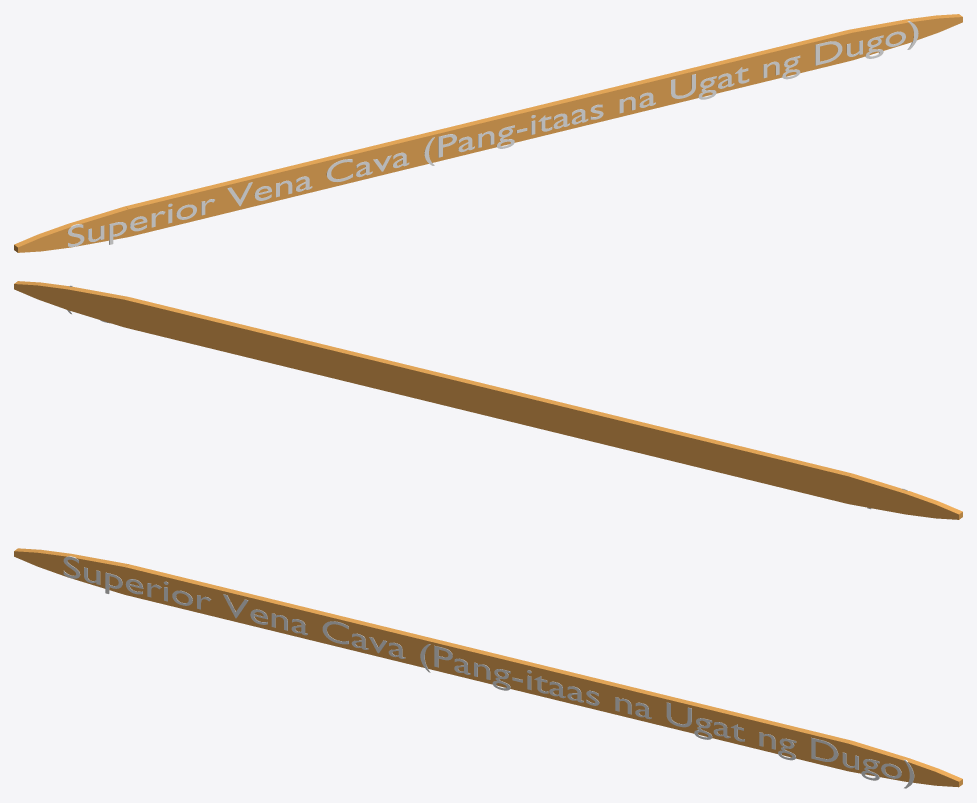
File: txtSuperiorVenaCava.fbx
The picture shows the model from 3 angles, top to bottom: view 1: azimuth 30°, elevation 25°; view 2: azimuth 150°, elevation 25°; view 3: azimuth 330°, elevation 25°; orthographic projection.
Parts seen in each view (by area): view 1: TagContainer.023, Text.023; view 2: TagContainer.023; view 3: TagContainer.023, Text.023.
Boxes of the visible parts, <box> form: TagContainer.023: <box>14,14,962,252</box>; Text.023: <box>67,21,918,246</box>; TagContainer.023: <box>14,281,962,519</box>; TagContainer.023: <box>14,548,962,787</box>; Text.023: <box>63,556,914,788</box>.
Size of the model in its own units: 1471 by 45.8 by 11.23.
